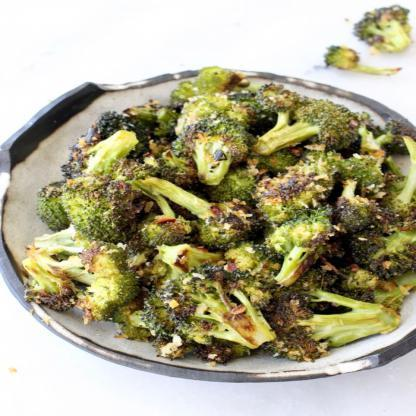broccoli: (19, 66, 416, 366)
